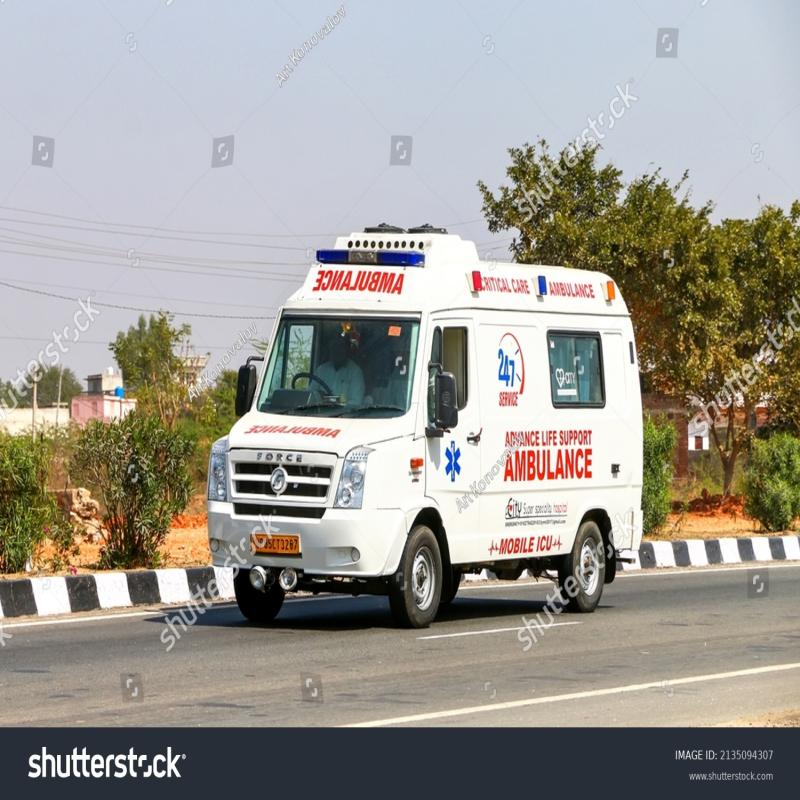AmbulanceSiren: (296, 233, 422, 285)
ambulance: (168, 217, 652, 636)
